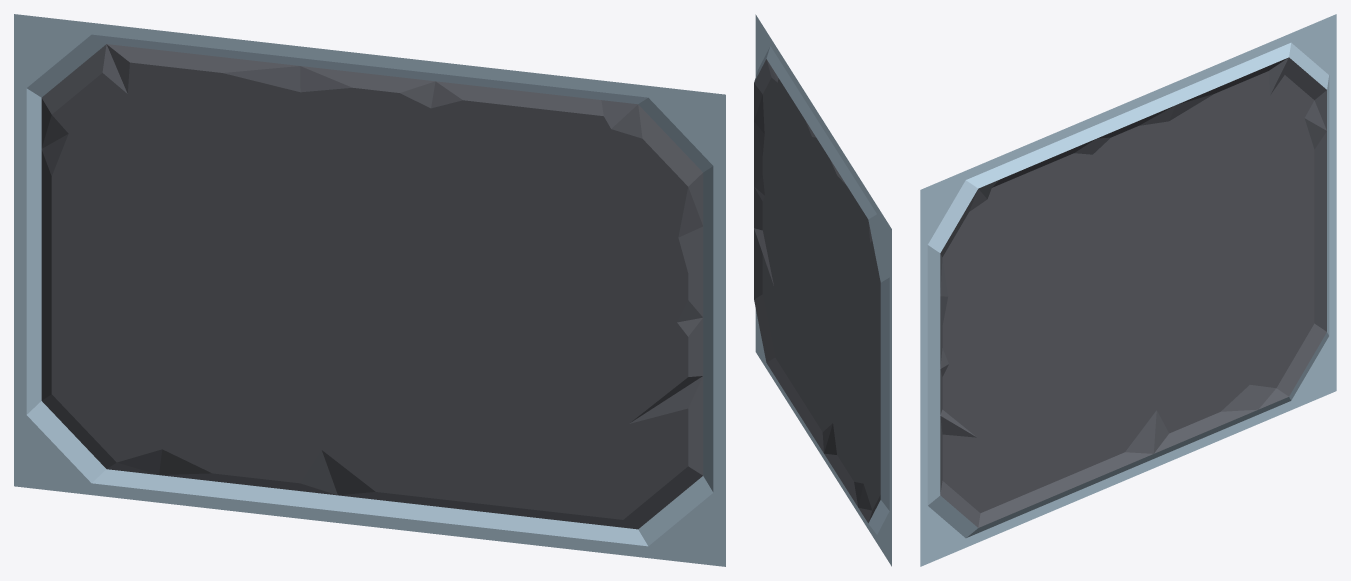
File: Wall_Medium_45.fbx
The picture shows the model from 3 angles, left to right: view 1: azimuth 30°, elevation 25°; view 2: azimuth 150°, elevation 25°; view 3: azimuth 270°, elevation 25°; orthographic projection. The views are drawn at different scales.
Visible parts, largest first — view 1: Wall_Medium_45; view 2: Wall_Medium_45; view 3: Wall_Medium_45.
Part boxes in pixels (x1,y1,x2,y2): Wall_Medium_45: (14, 14, 725, 566); Wall_Medium_45: (754, 14, 891, 566); Wall_Medium_45: (920, 14, 1336, 566).
Size of the model in its own units: 8 by 8 by 8.
